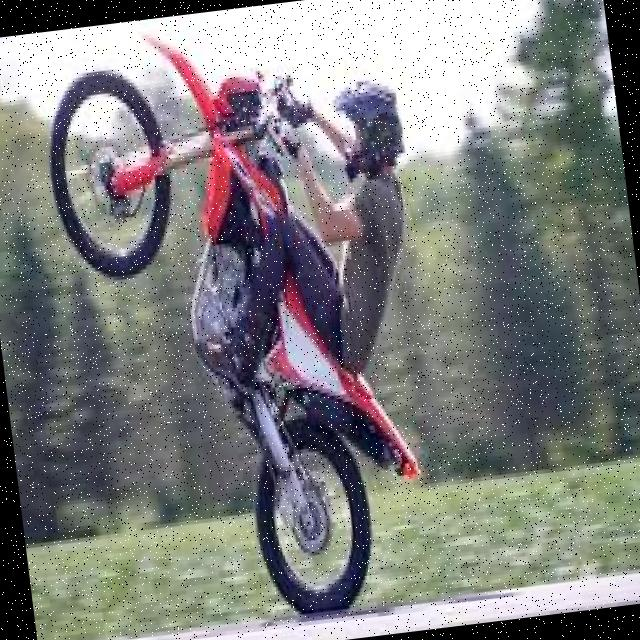Wheeling: (39, 7, 456, 636)
